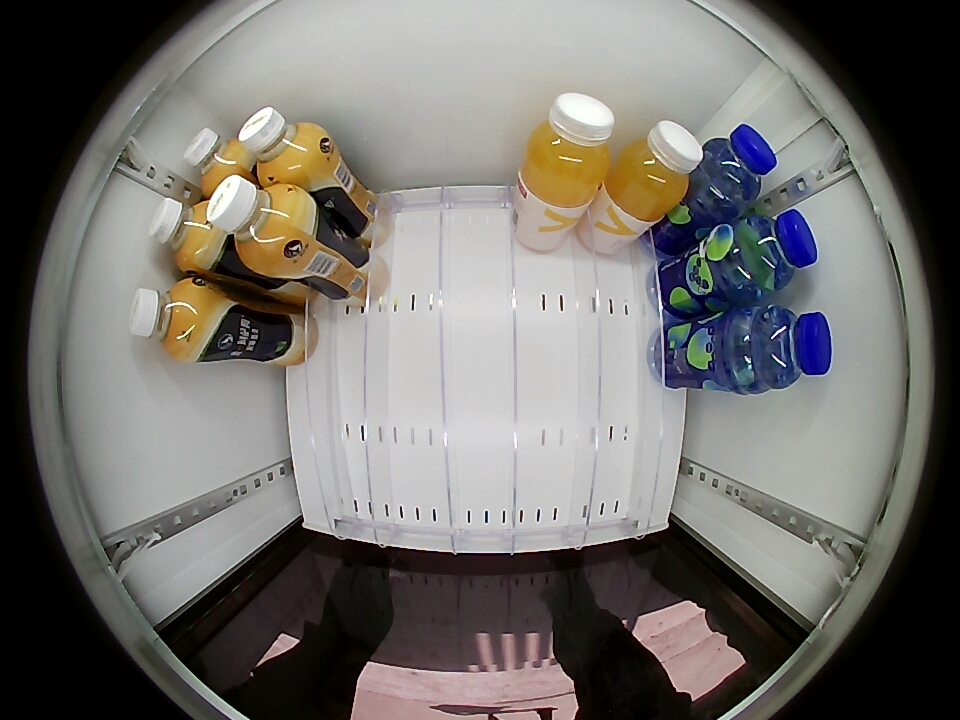asamu: (205, 176, 308, 269), (129, 279, 214, 361), (239, 107, 325, 181), (149, 197, 221, 272), (183, 129, 250, 192)
maidong: (726, 305, 833, 392), (723, 209, 818, 294), (696, 124, 778, 212)
weic: (518, 93, 616, 208), (606, 121, 704, 222)
